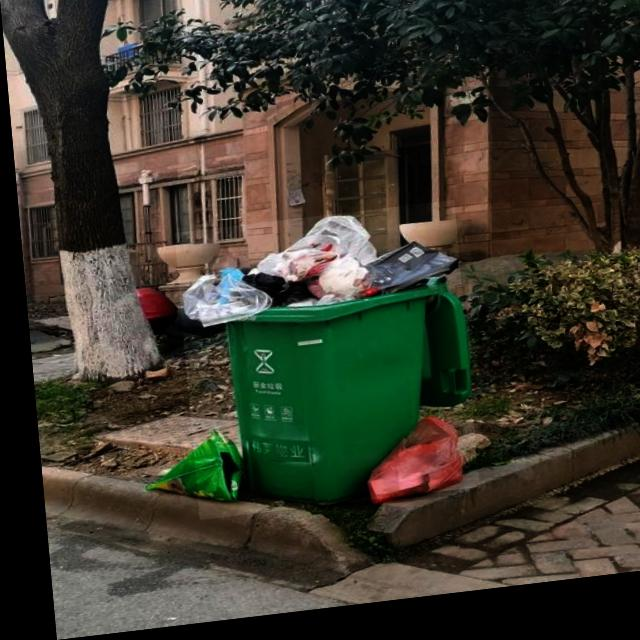garbage: (349, 418, 456, 514), (131, 432, 234, 513)
overflow: (170, 211, 469, 524)
